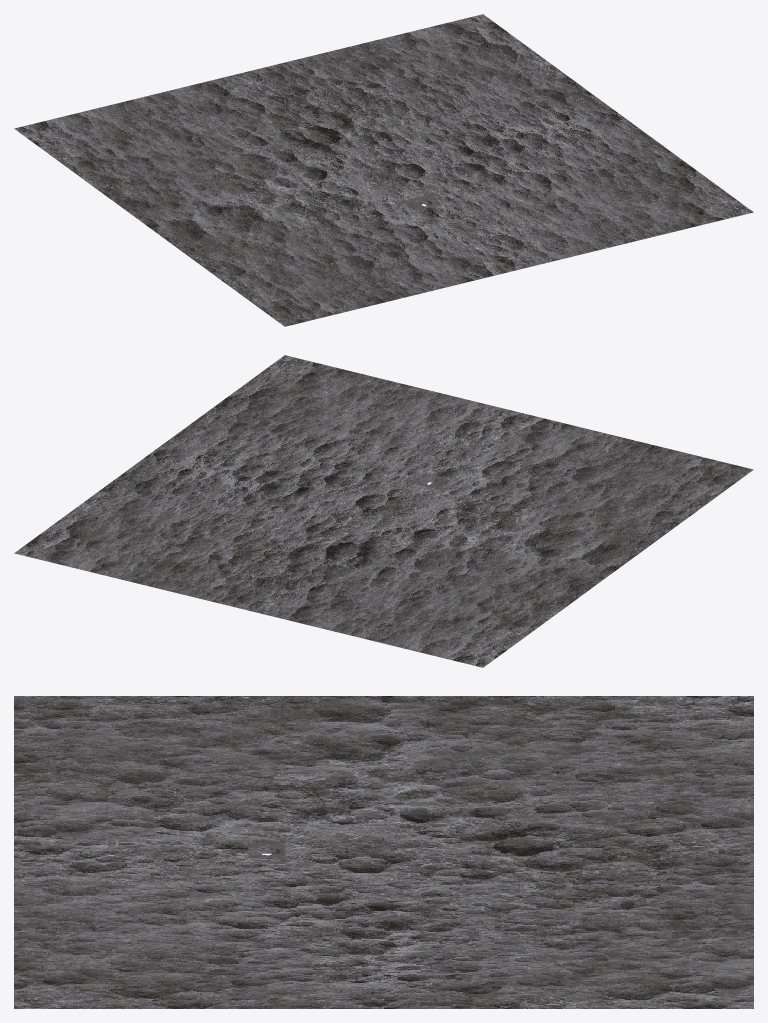
The model's file is starfield_crater.glb.
3 renders of one model, top to bottom at view 1: azimuth 30°, elevation 25°; view 2: azimuth 150°, elevation 25°; view 3: azimuth 270°, elevation 25°, orthographic. The views are drawn at different scales.
Parts seen in each view (by area): view 1: starfield_crater; view 2: starfield_crater; view 3: starfield_crater.
Part boxes in pixels (left/top/right/bottom): starfield_crater: left=14, top=14, right=753, bottom=326; starfield_crater: left=14, top=355, right=753, bottom=667; starfield_crater: left=14, top=696, right=753, bottom=1008.
Size of the model in its own units: 20000 by 120 by 20000.
1 material, 1 textured.
